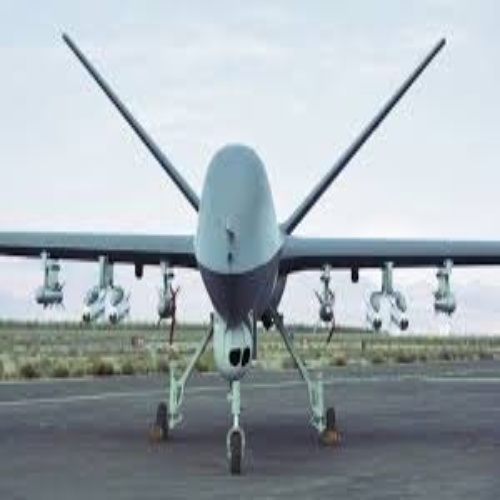uav: (11, 31, 499, 469)
